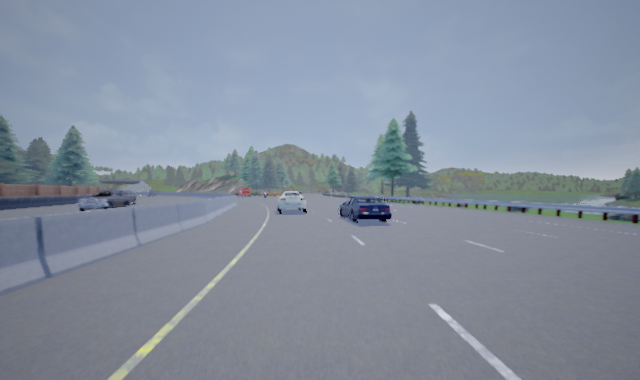vehicle: (338, 196, 392, 223), (75, 188, 136, 211), (276, 190, 308, 214)
